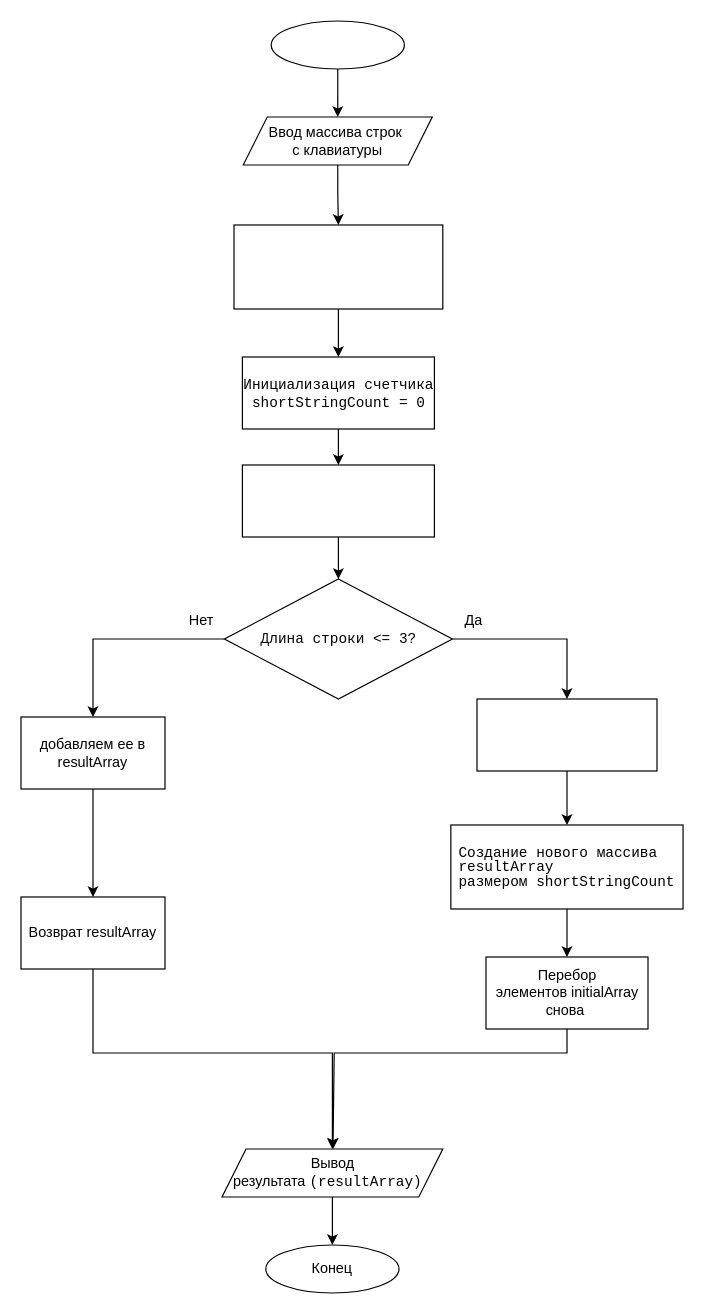
Some shapes in this 710 by 1314 pixel diagram are drawn without their labels. Here are the shapes that lost their labels. From the top down, the box of each, then its label:
(270, 20, 404, 69): Начало
(233, 224, 443, 309): Ввод функции CreateShort StringArray (initialArray)
(241, 464, 434, 537): Перебор элементов initialArray
(476, 698, 657, 771): shortStringCount++
